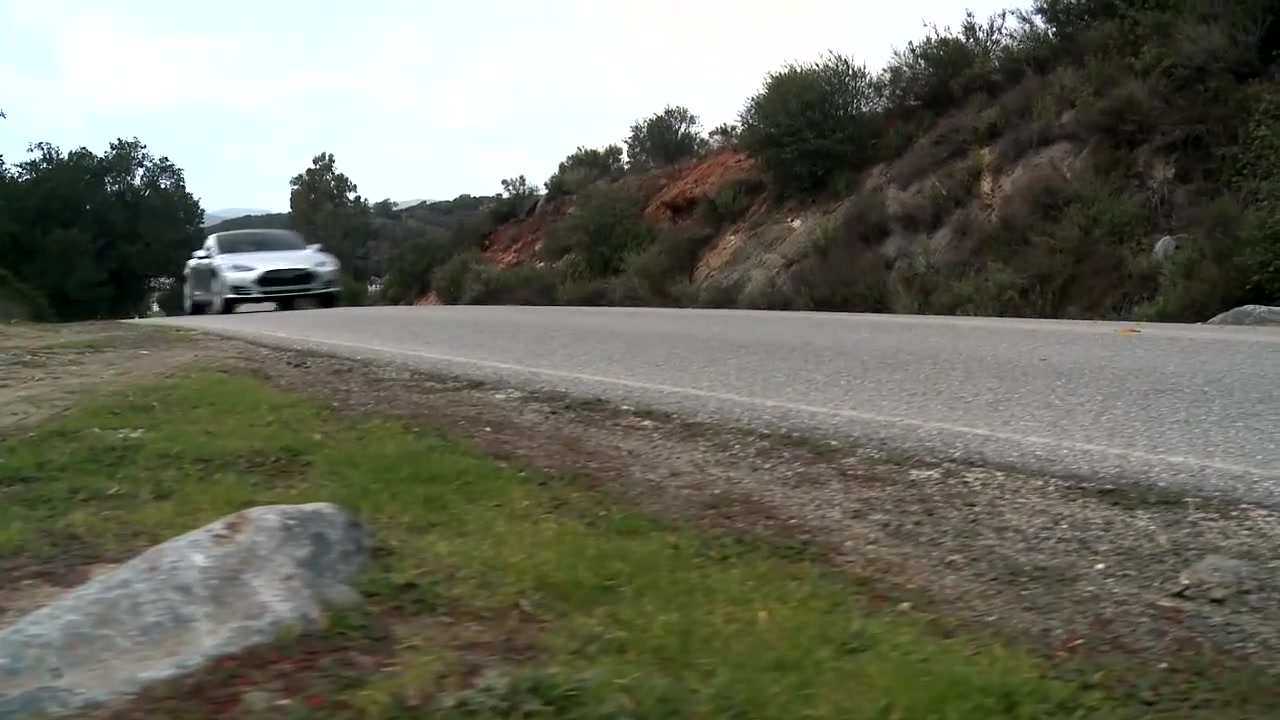car: (180, 230, 343, 315)
